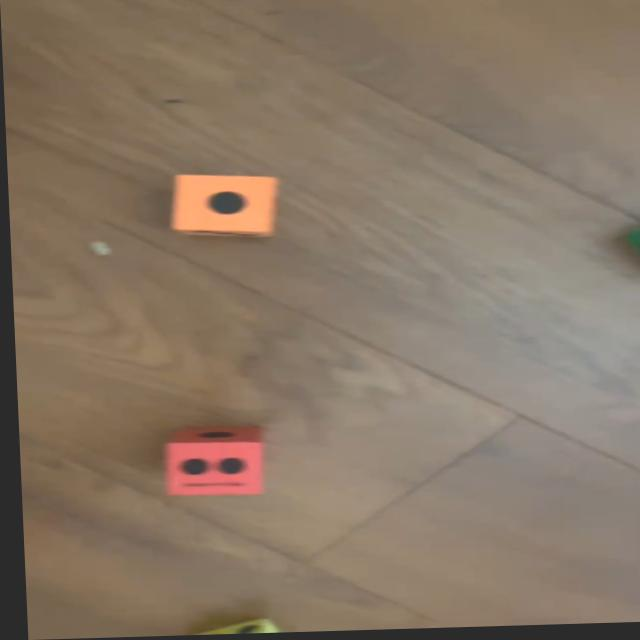cube: (160, 433, 262, 497), (618, 226, 640, 269)
